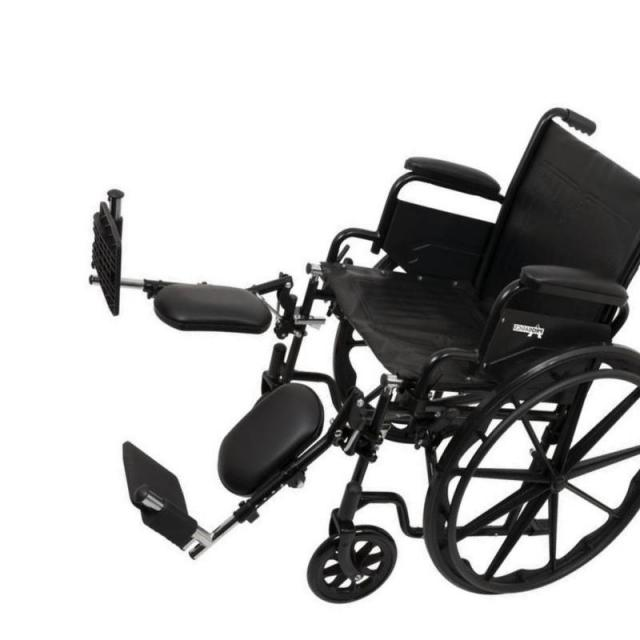wheelchair: (66, 98, 640, 604)
